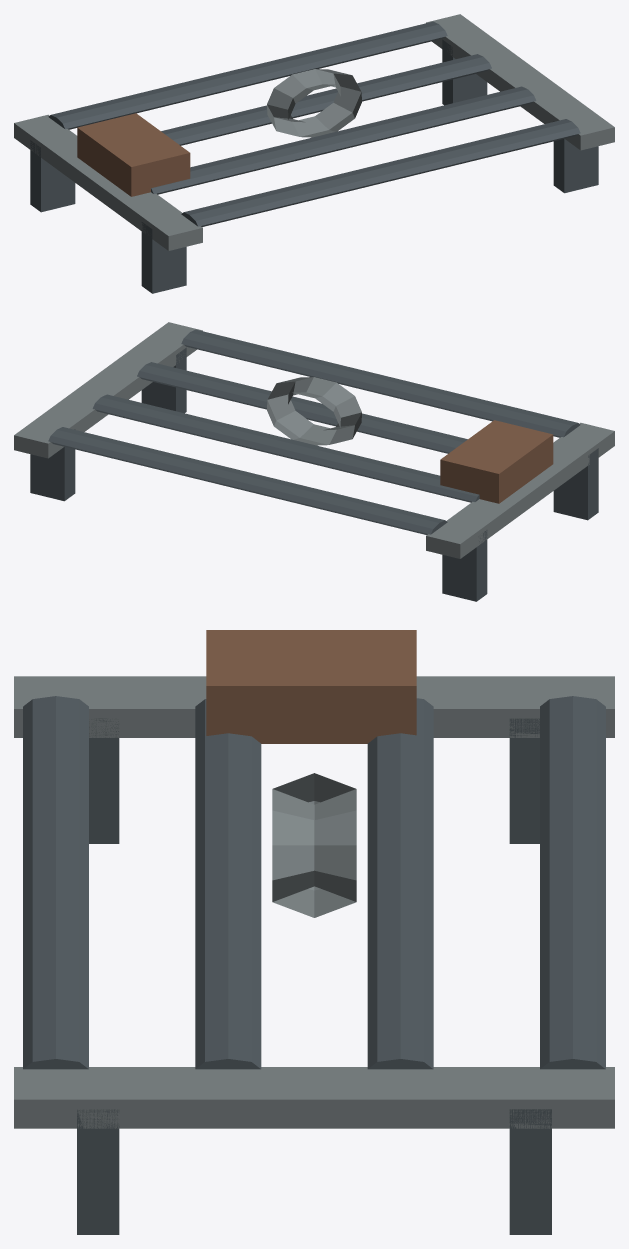
Rendered from debarker.glb.
3 views of the same model, one above another, from view 1: azimuth 30°, elevation 25°; view 2: azimuth 150°, elevation 25°; view 3: azimuth 270°, elevation 25° (orthographic). The views are drawn at different scales.
Visible parts, largest first — view 1: debarker; view 2: debarker; view 3: debarker.
Part boxes in pixels (box(x1,y1,x2,y2)): debarker: box(14, 14, 614, 293); debarker: box(14, 322, 614, 601); debarker: box(14, 630, 614, 1234).
Size of the model in its own units: 4.8 by 1.25 by 2.88.
